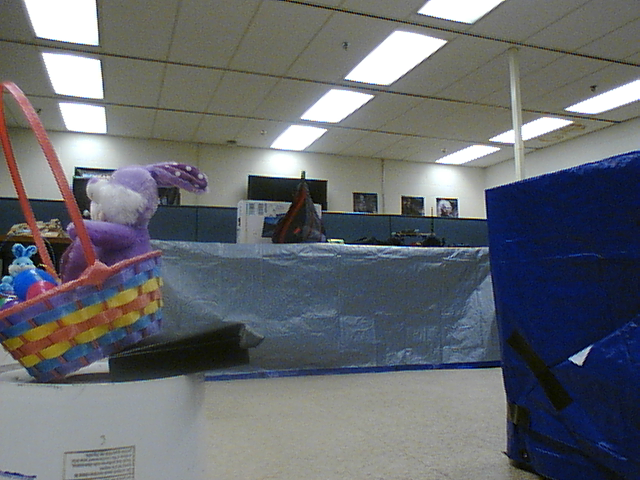bunny: (1, 83, 213, 385)
